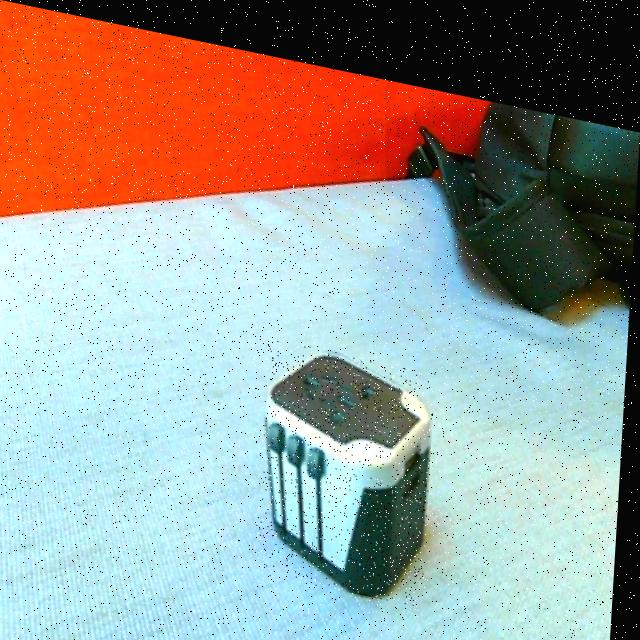adapter: (260, 326, 439, 588)
